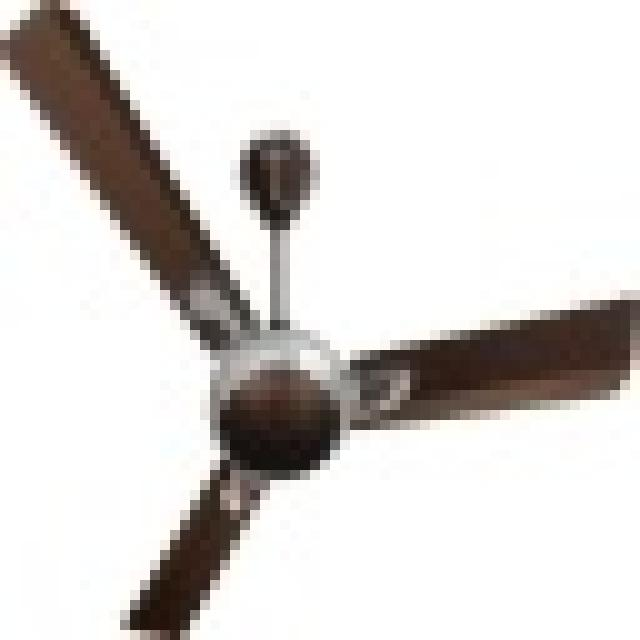Bulb: (0, 18, 640, 588)
